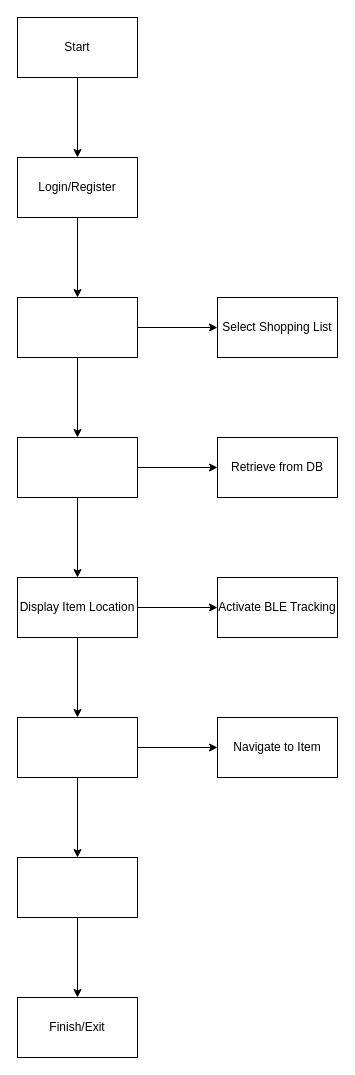
The diagram is 355 pixels wide and 1075 high, and some of its shapes have lost their labels. Here are the shapes that lost their labels. From the top down, the centre of each, then its label:
At pixel 77 327: "Home Screen".
At pixel 77 467: "Search Item".
At pixel 77 747: "Generate Route".
At pixel 77 887: "Mark Item as Found".
